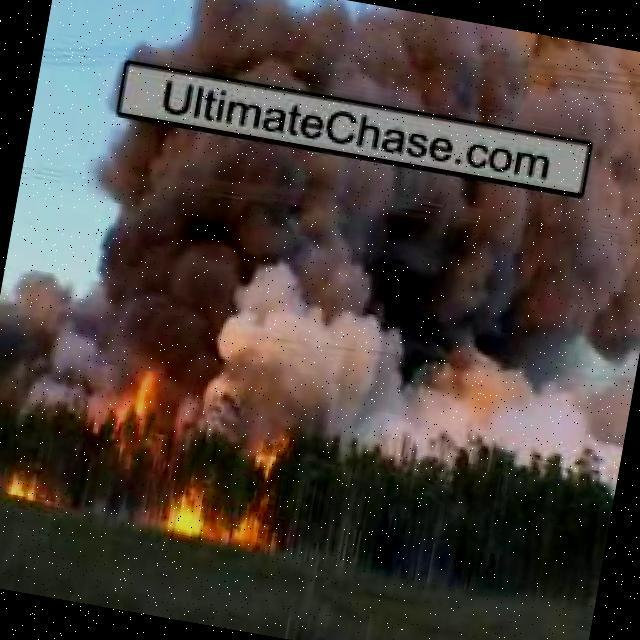Fire: (161, 416, 308, 556), (125, 349, 163, 439), (3, 466, 46, 503)
